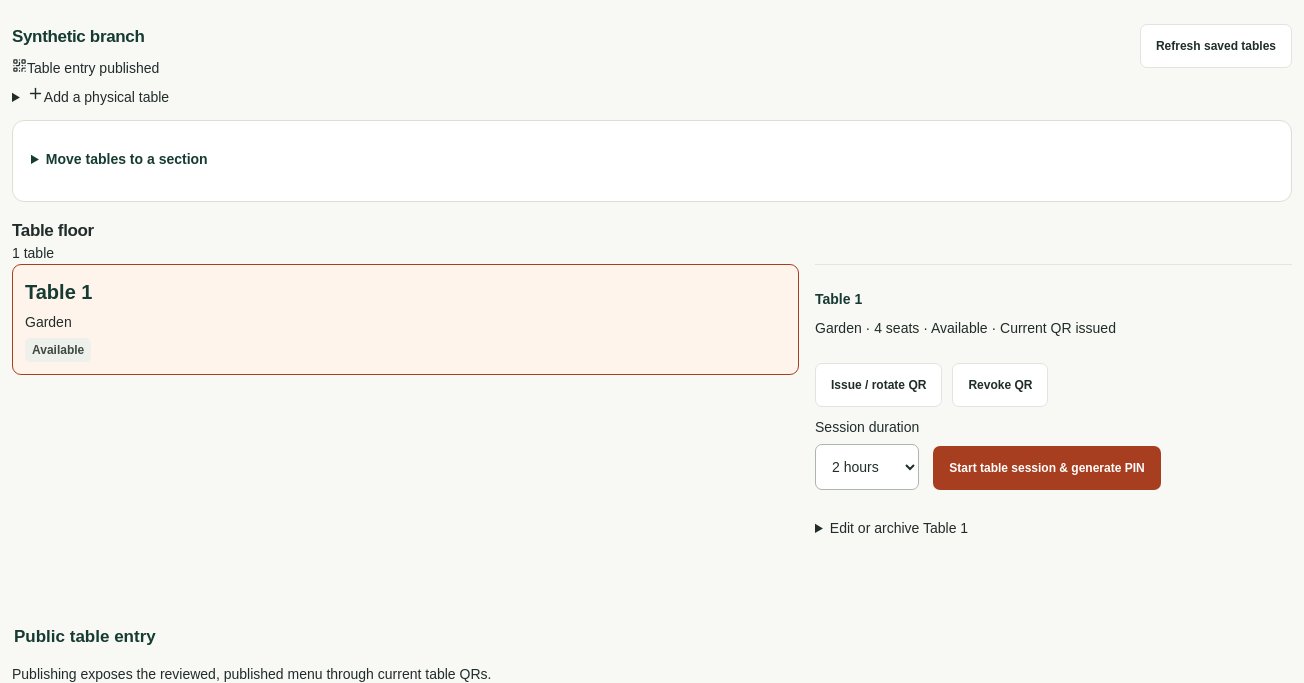
Scenario: failed table mutation does not invent a PIN, QR or success; refresh offers recovery
This screenshot has width=1304, height=683.
Click the button "Issue / rotate QR" at [879, 385], box 815,363 -> 942,407
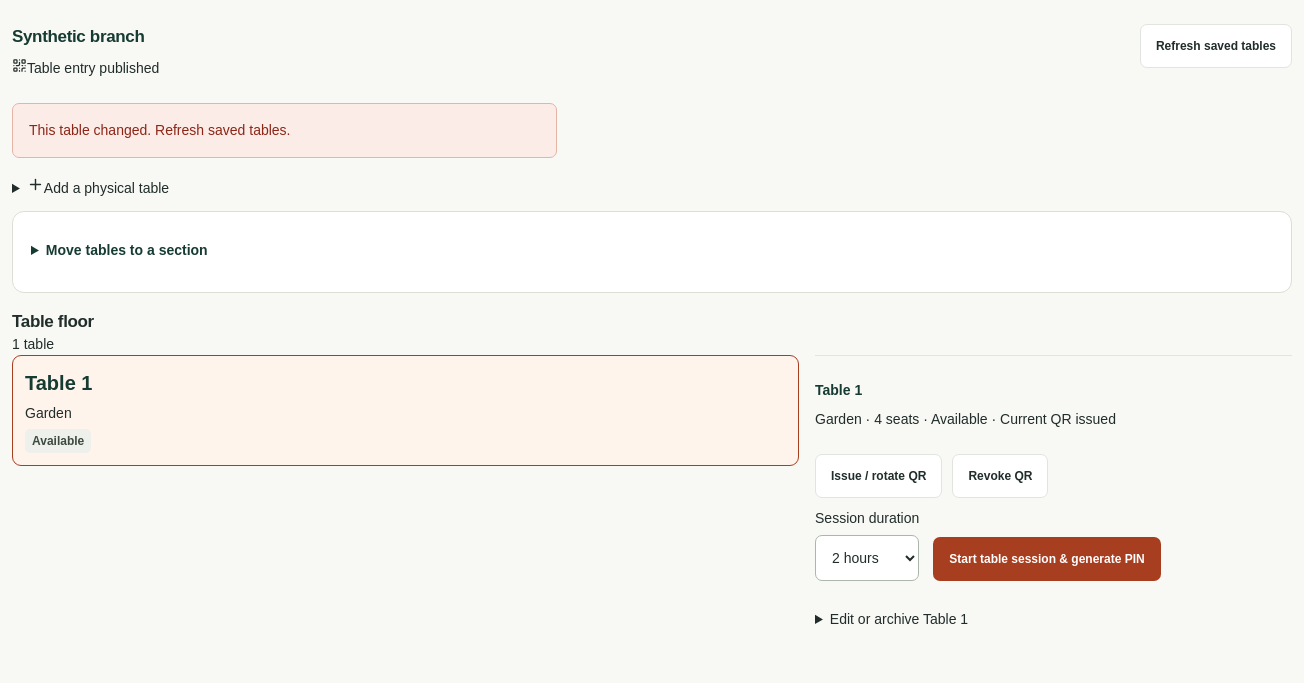
Expected: the message "This table changed. Refresh saved tables." is shown, 12,102 -> 557,158
